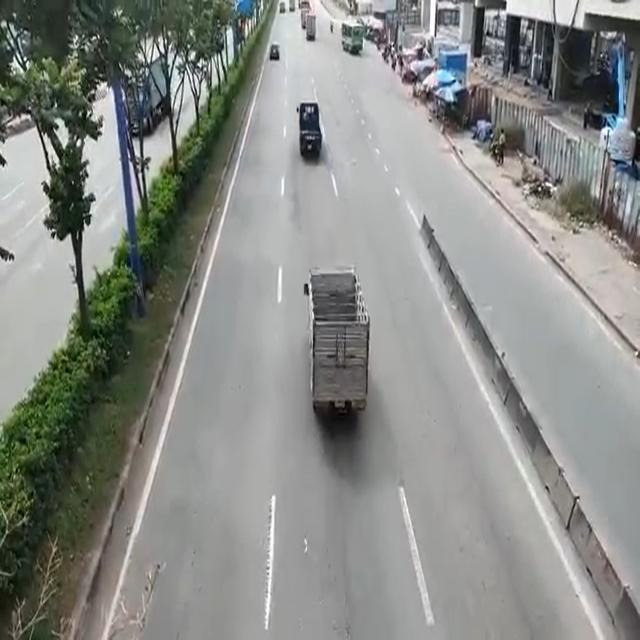truck: (307, 264, 371, 419), (294, 93, 323, 173)
